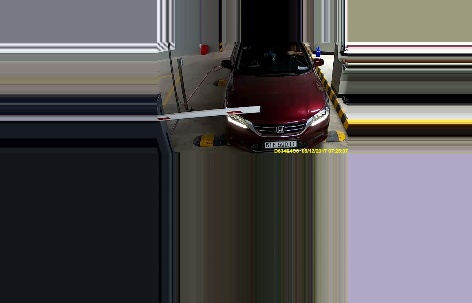plate: (263, 139, 298, 149)
